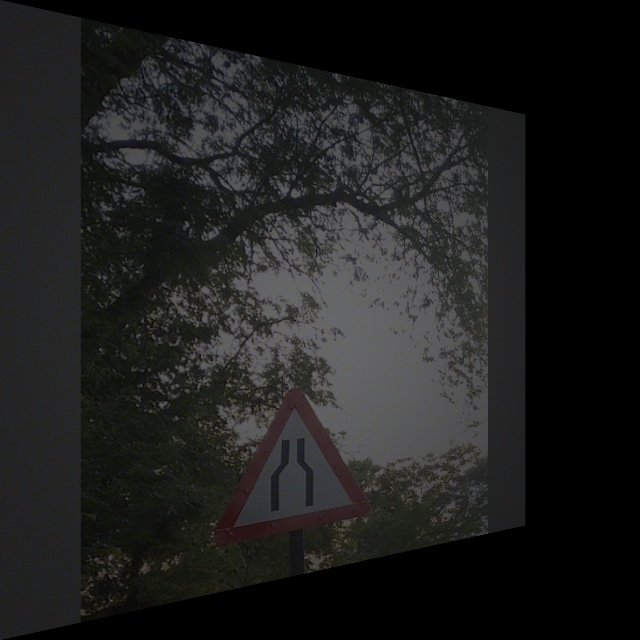Narrow_Road_Ahead: (215, 381, 371, 544)
